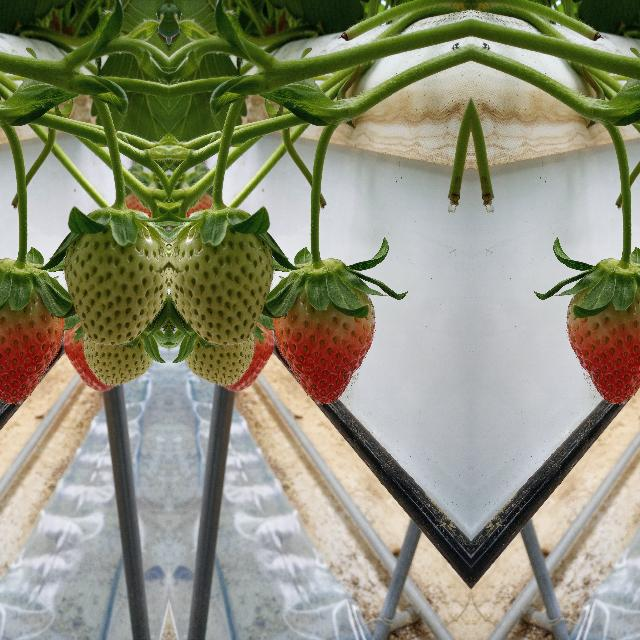Health_100: (272, 278, 374, 407), (566, 277, 640, 406), (0, 277, 64, 406)
Health_25: (65, 198, 168, 342), (168, 198, 270, 342), (172, 314, 254, 388), (82, 314, 164, 388)
